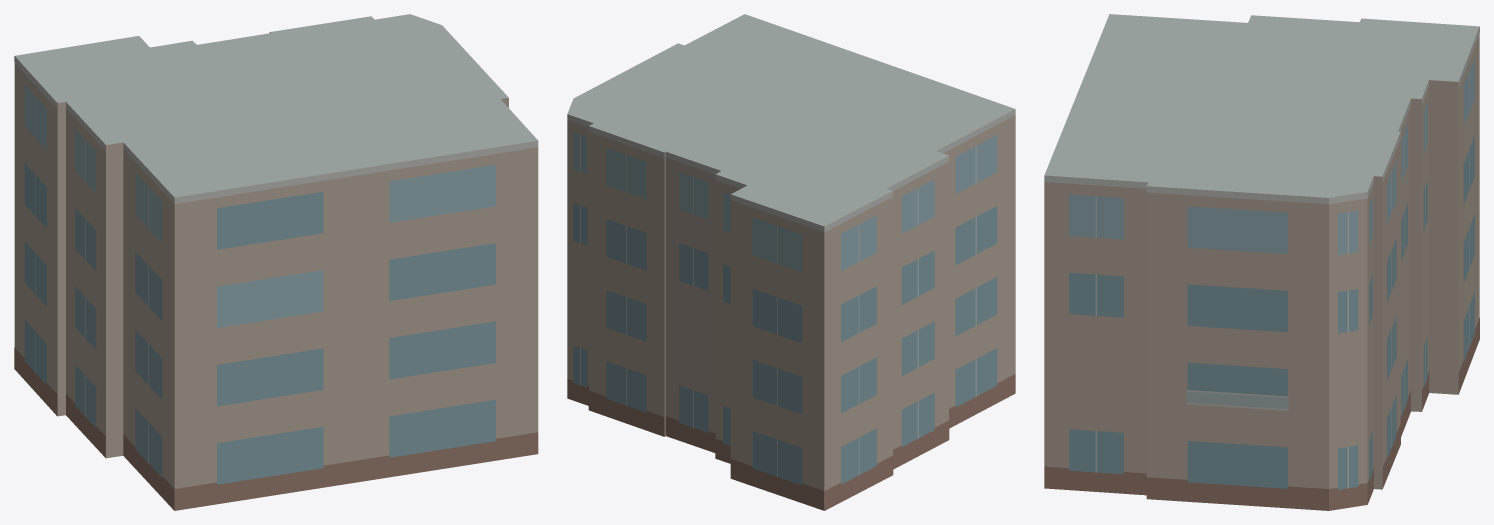
Rendered from survey-upis-33035535.glb.
The picture shows the model from 3 angles, left to right: view 1: azimuth 30°, elevation 25°; view 2: azimuth 150°, elevation 25°; view 3: azimuth 270°, elevation 25°; orthographic projection. The views are drawn at different scales.
Parts seen in each view (by area): view 1: survey-upis-33035535.tmp; view 2: survey-upis-33035535.tmp; view 3: survey-upis-33035535.tmp.
Part boxes in pixels (x1=…): survey-upis-33035535.tmp: x1=14, y1=14, x2=538, y2=510; survey-upis-33035535.tmp: x1=567, y1=14, x2=1015, y2=510; survey-upis-33035535.tmp: x1=1044, y1=14, x2=1479, y2=510.
Size of the model in its own units: 14.89 by 11.8 by 14.89.
